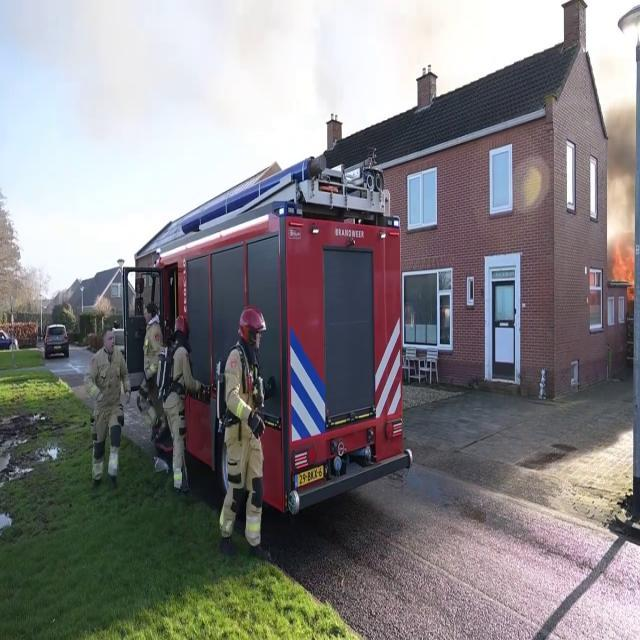Smoke: (602, 88, 638, 262)
